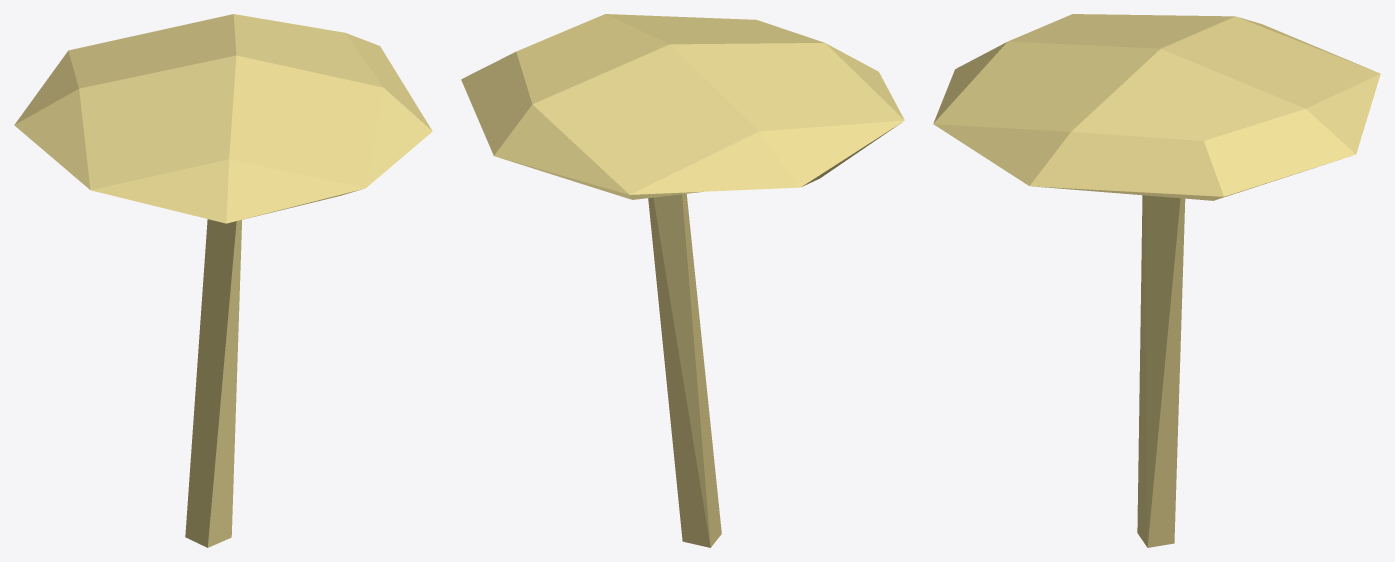
File: Mushroom_h_02.fbx
3 renders of one model, left to right at view 1: azimuth 30°, elevation 25°; view 2: azimuth 150°, elevation 25°; view 3: azimuth 270°, elevation 25°, orthographic. The views are drawn at different scales.
Parts seen in each view (by area): view 1: Mushroom_h_02; view 2: Mushroom_h_02; view 3: Mushroom_h_02.
Part boxes in pixels (box(x1,y1,x2,y2)): Mushroom_h_02: box(14, 14, 432, 547); Mushroom_h_02: box(461, 14, 904, 547); Mushroom_h_02: box(933, 14, 1380, 547).
Size of the model in its own units: 15.21 by 19.13 by 15.38.
